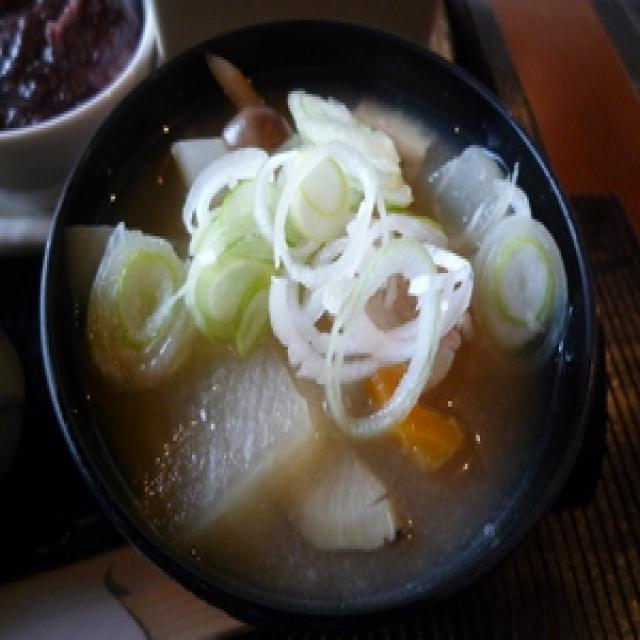蔬菜料理: (24, 9, 602, 632)
